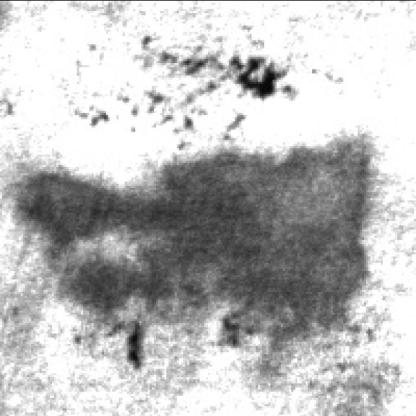inclusion: (152, 44, 297, 102)
patches: (13, 136, 372, 326), (50, 240, 210, 323)
